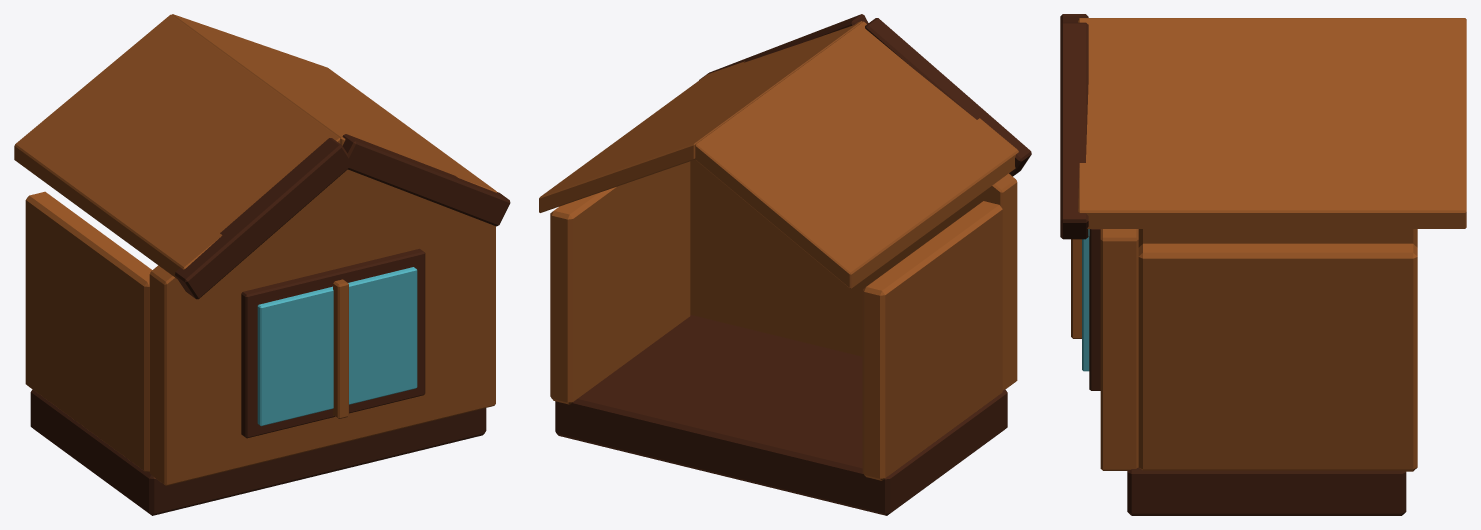
Rendered from EH_RoofDormer.fbx.
3 views of the same model, side by side, from view 1: azimuth 30°, elevation 25°; view 2: azimuth 150°, elevation 25°; view 3: azimuth 270°, elevation 25° (orthographic). The views are drawn at different scales.
Parts seen in each view (by area): view 1: EH_RoofDormer; view 2: EH_RoofDormer; view 3: EH_RoofDormer.
Part boxes in pixels (x1,y1,x2,y2): EH_RoofDormer: (14,14,510,515); EH_RoofDormer: (539,14,1031,515); EH_RoofDormer: (1060,14,1466,515).
Size of the model in its own units: 1.18 by 1.19 by 1.08.
